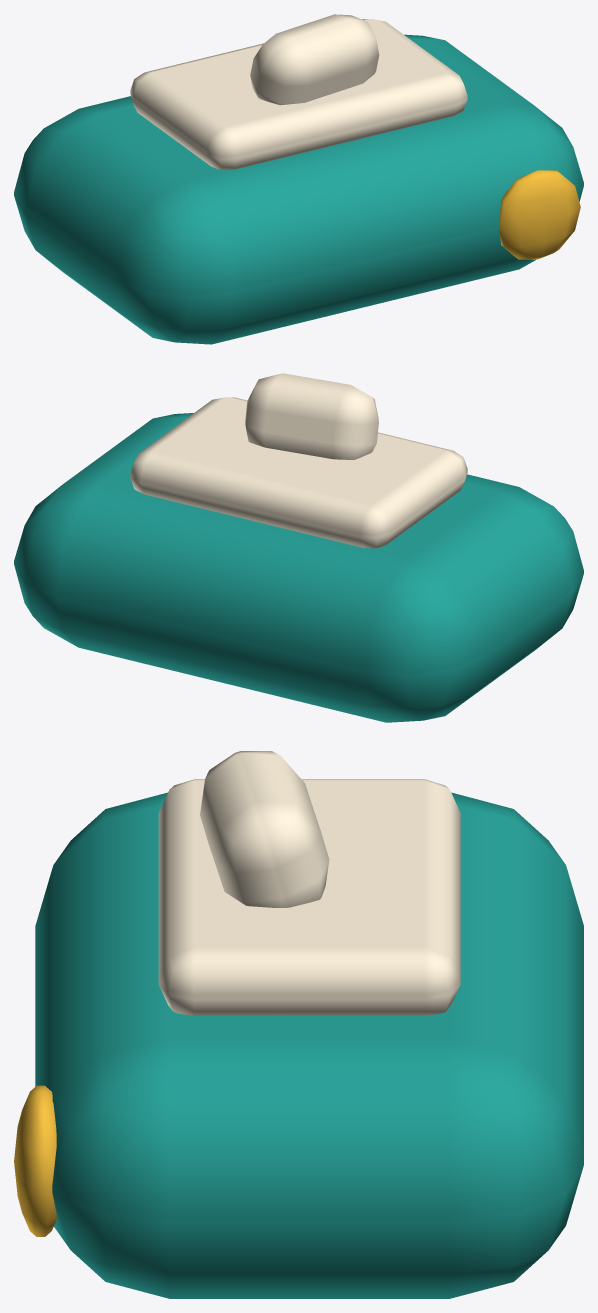
File: wet_wipes.glb
3 renders of one model, top to bottom at view 1: azimuth 30°, elevation 25°; view 2: azimuth 150°, elevation 25°; view 3: azimuth 270°, elevation 25°, orthographic. The views are drawn at different scales.
Visible parts, largest first — view 1: Pack, Lid, Wipe, Dot; view 2: Pack, Lid, Wipe; view 3: Pack, Lid, Wipe, Dot.
Part boxes in pixels (x1,y1,x2,y2): Pack: (14, 34, 583, 344); Lid: (130, 19, 467, 170); Wipe: (250, 14, 379, 105); Dot: (499, 170, 580, 259); Pack: (14, 413, 583, 722); Lid: (130, 397, 467, 548); Wipe: (245, 373, 378, 459); Pack: (35, 792, 583, 1298); Lid: (158, 779, 460, 1015); Wipe: (200, 751, 329, 907); Dot: (14, 1085, 56, 1236).
Size of the model in its own units: 0.3 by 0.1586 by 0.2078.
